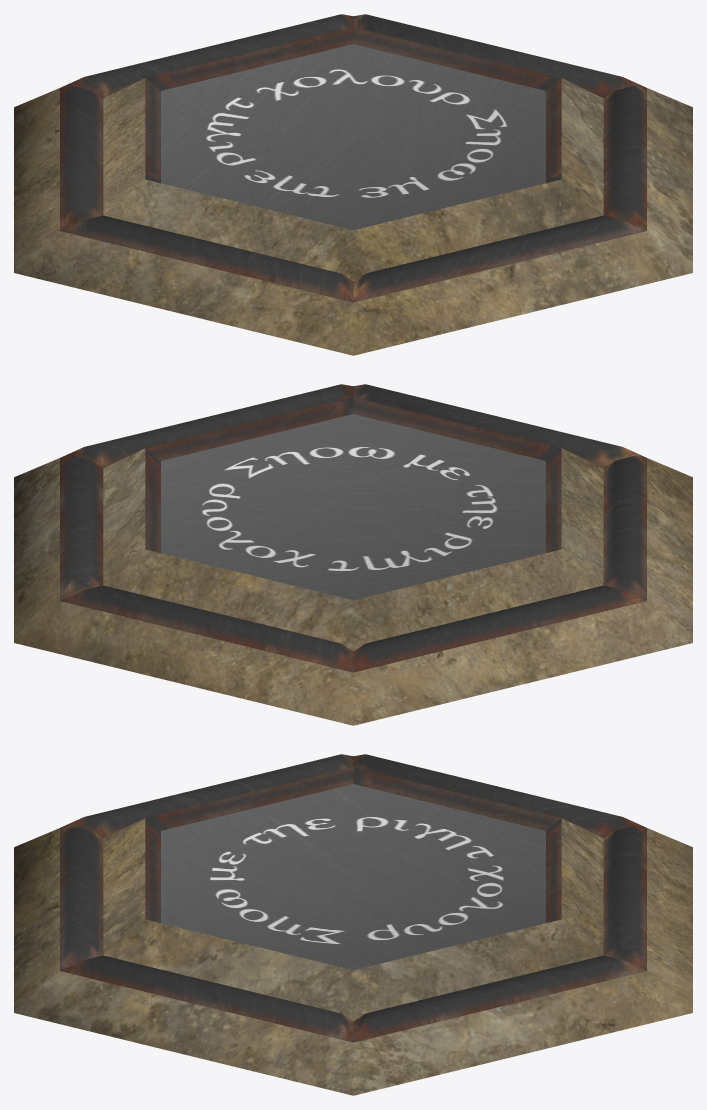
File: sensorplatform.fbx
3 views of the same model, one above another, from view 1: azimuth 30°, elevation 25°; view 2: azimuth 150°, elevation 25°; view 3: azimuth 270°, elevation 25° (orthographic).
Parts seen in each view (by area): view 1: U3DMesh; view 2: U3DMesh; view 3: U3DMesh.
Part boxes in pixels (x1,y1,x2,y2): U3DMesh: (14,14,692,355); U3DMesh: (14,384,692,725); U3DMesh: (14,754,692,1095).
Bounding box in the file's own units: 2.31 × 0.2 × 2.
Materials: 2 (2 with a texture image).
